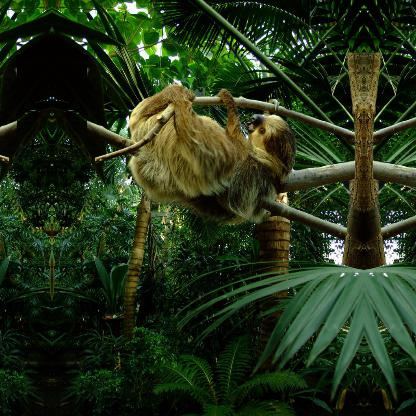Monkey: (128, 85, 296, 243)
